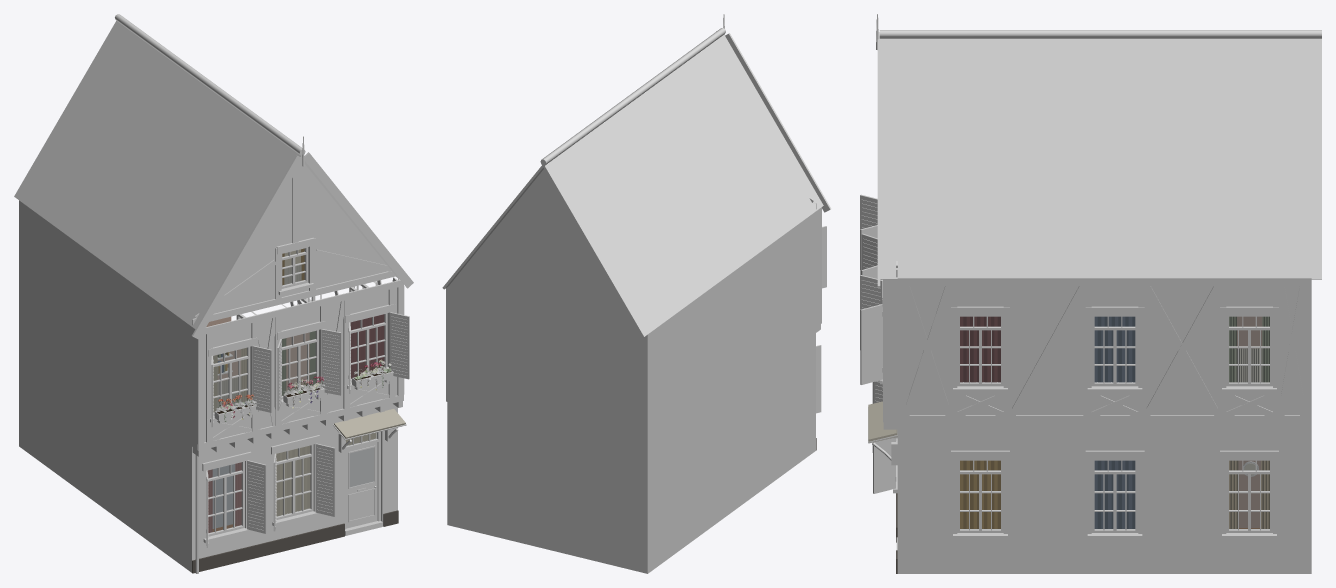
File: GateStreet_BehindOuter3.glb
3 renders of one model, left to right at view 1: azimuth 30°, elevation 25°; view 2: azimuth 150°, elevation 25°; view 3: azimuth 270°, elevation 25°, orthographic. The views are drawn at different scales.
Visible parts, largest first — view 1: GateStreet_BehindOuter3; view 2: GateStreet_BehindOuter3; view 3: GateStreet_BehindOuter3.
Boxes of the visible parts, x1,y1,x2,y2 form: GateStreet_BehindOuter3: [14, 14, 413, 573]; GateStreet_BehindOuter3: [442, 14, 831, 573]; GateStreet_BehindOuter3: [860, 14, 1321, 573].
Bounding box in the file's own units: 5.91 × 10.65 × 8.93.
